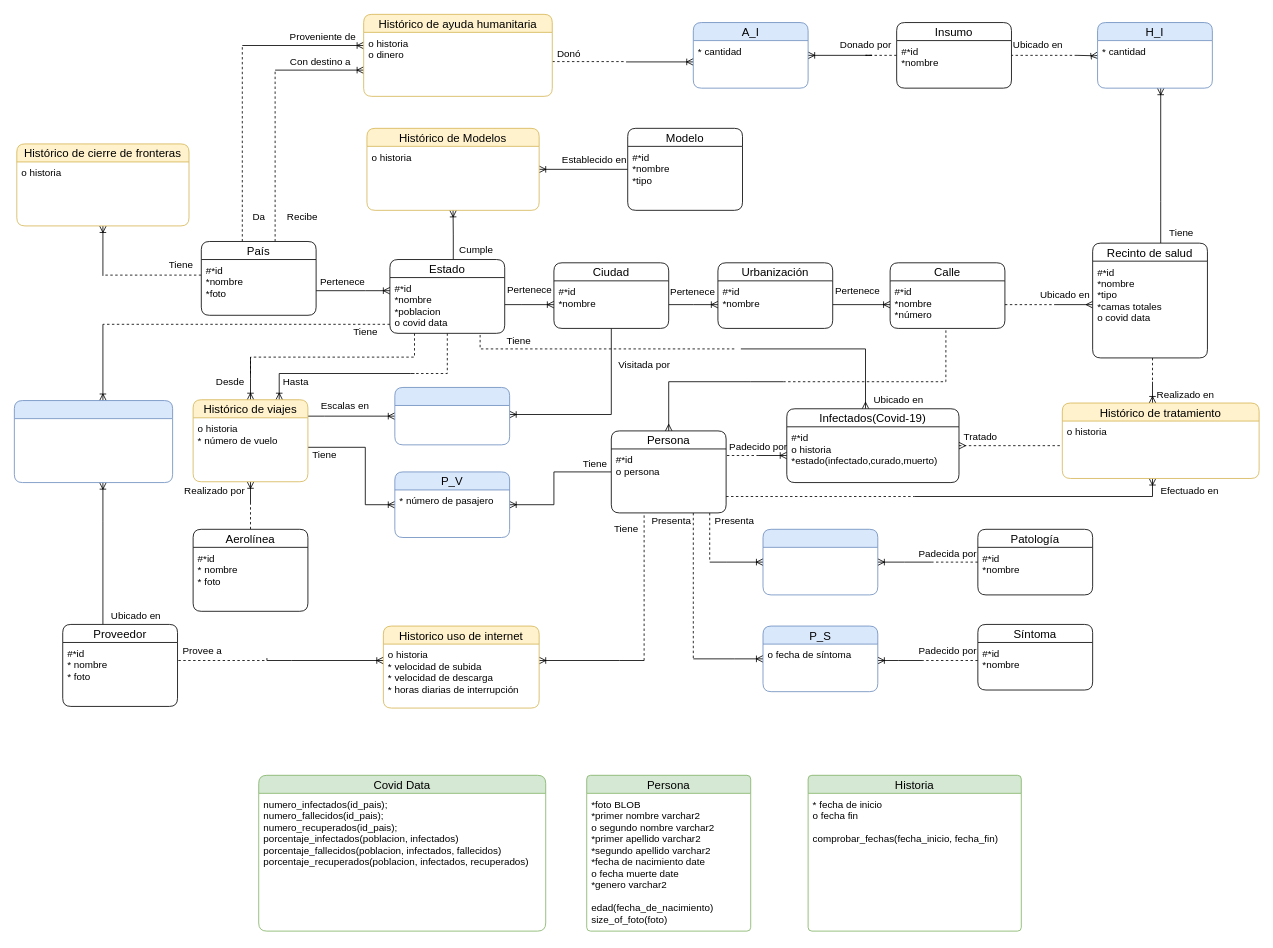
Image size: 1273x948. Some labels were removed from this diagram. The centre of each missing label's shape, as x and y in pixels:
"C_HV (Visitas)" goes at (452,416).
"E_P (Estado_Proveedor)" goes at (93,441).
"P_P" goes at (820,561).
